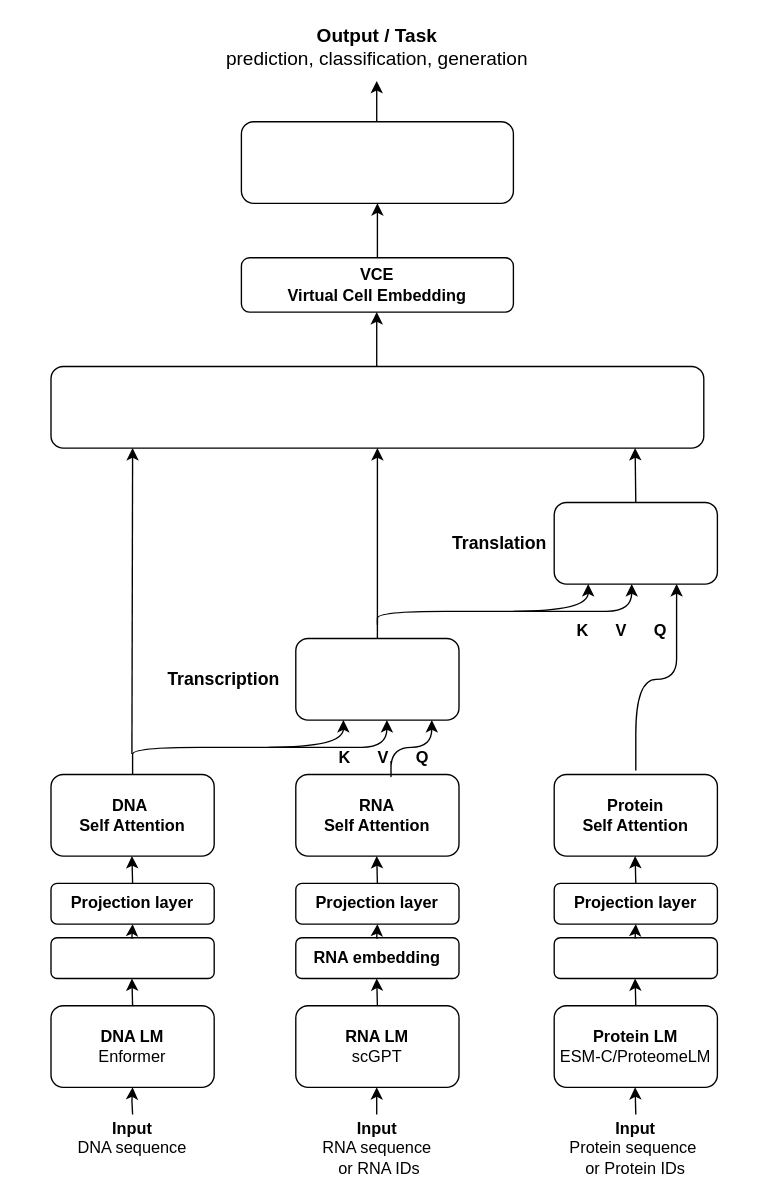
This 781x1201 diagram has some shape labels left out. Each missing label, with the box of its shape:
DNA -> RNA Cross Attention: (294, 637, 459, 720)
DNA embedding: (50, 936, 214, 979)
Protein embedding: (553, 936, 717, 979)
RNA -> Protein Cross Attention: (553, 501, 717, 584)
Task Head MLP: (240, 120, 513, 203)
Virtual Cell Embedder Attention pooling + MLP: (50, 365, 704, 448)
